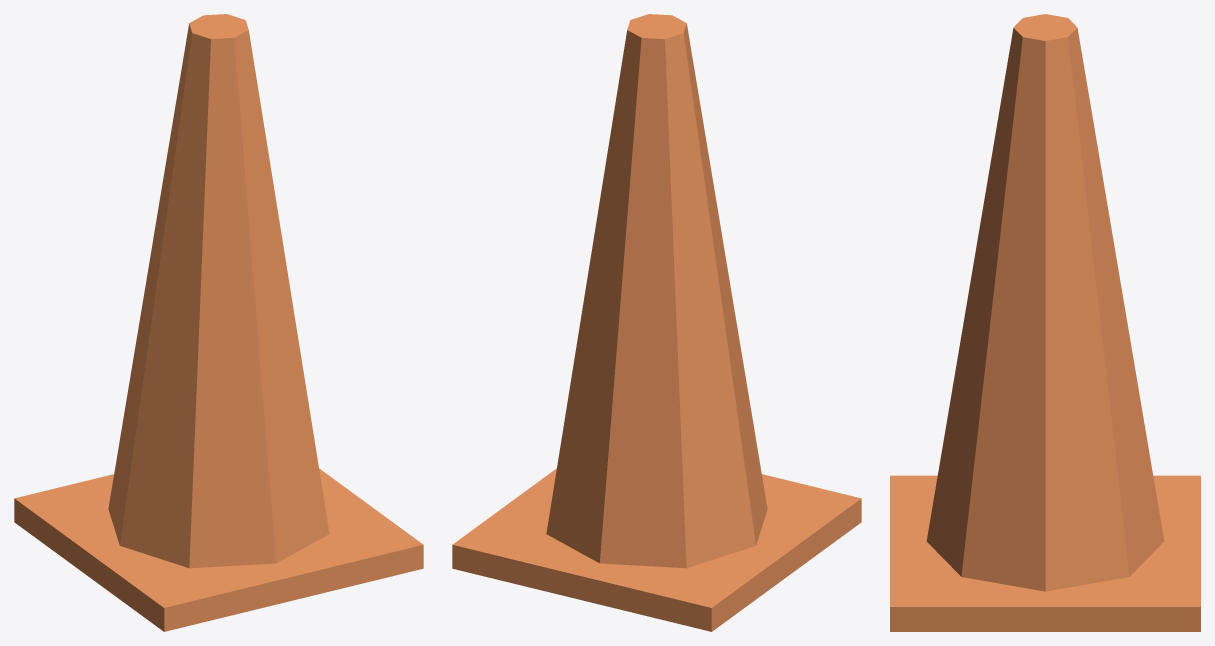
Rendered from skate-park-and-street-sports-traffic-cone-471119c8__33554.glb.
The picture shows the model from 3 angles, left to right: view 1: azimuth 30°, elevation 25°; view 2: azimuth 150°, elevation 25°; view 3: azimuth 270°, elevation 25°; orthographic projection. The views are drawn at different scales.
Visible parts, largest first — view 1: traffic-cone-sunset; view 2: traffic-cone-sunset; view 3: traffic-cone-sunset.
Boxes of the visible parts, x1,y1,x2,y2 form: traffic-cone-sunset: (14,14,423,631); traffic-cone-sunset: (452,14,861,631); traffic-cone-sunset: (890,14,1200,631).
Bounding box in the file's own units: 0.34 × 0.65 × 0.34.
